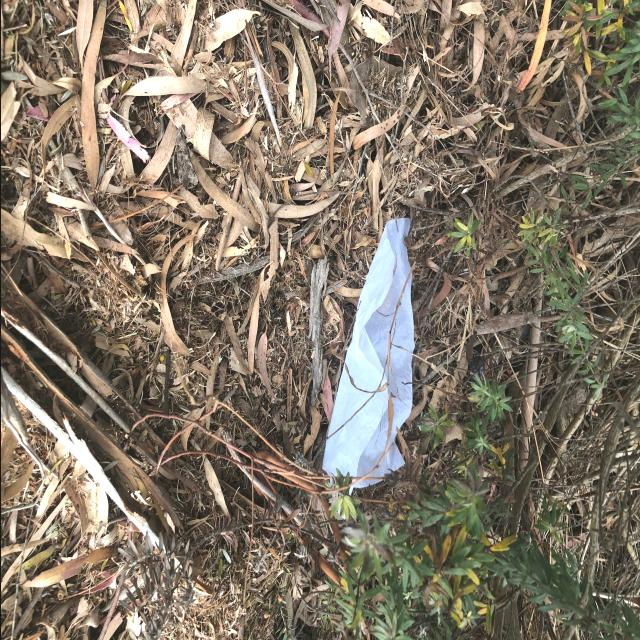Plastic film: (321, 218, 414, 495)
